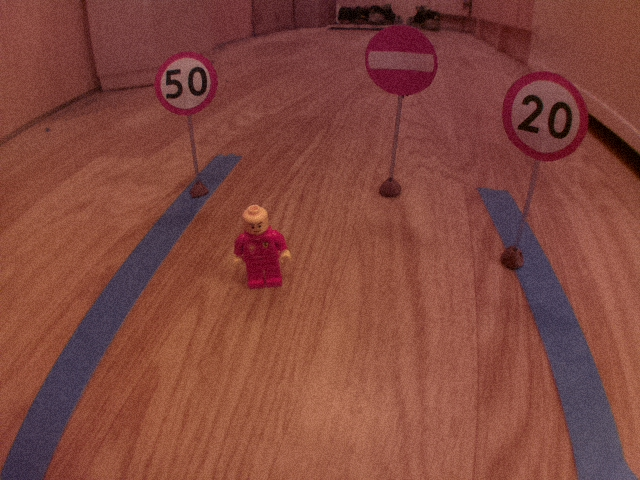LEGO_person: (230, 202, 292, 290)
ogr_20: (500, 70, 591, 165)
ogr_50: (153, 50, 220, 118)
zakaz: (364, 22, 440, 98)
